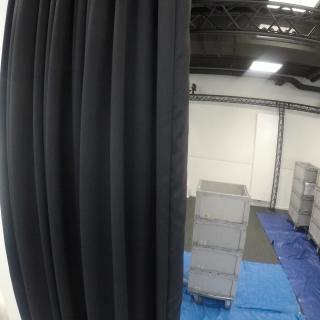Box4G: (196, 179, 257, 226), (192, 217, 252, 256), (191, 243, 245, 280), (188, 268, 240, 304)
